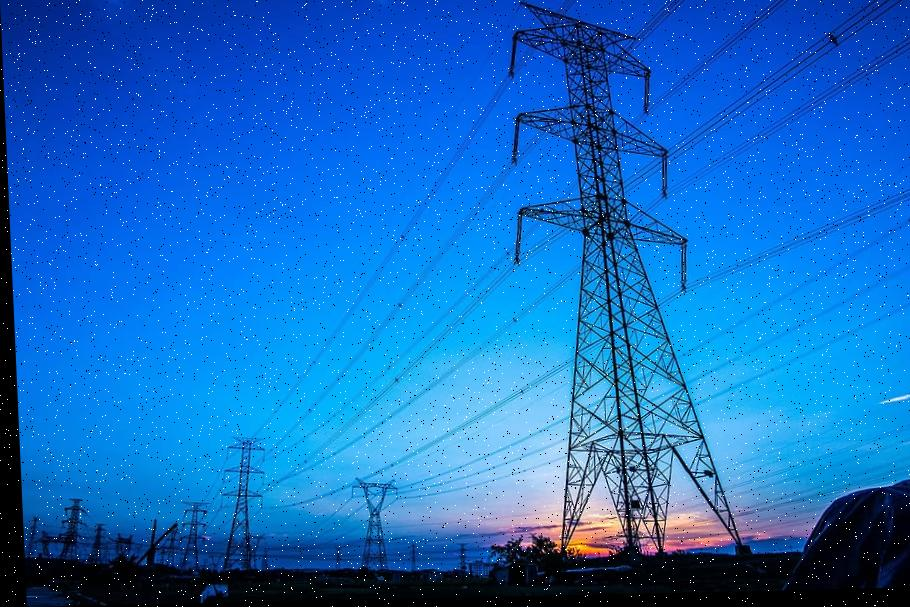tower: (501, 2, 735, 553), (210, 422, 277, 575), (338, 474, 411, 571), (168, 495, 212, 574)
